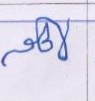i_matra: (40, 16, 71, 61)
